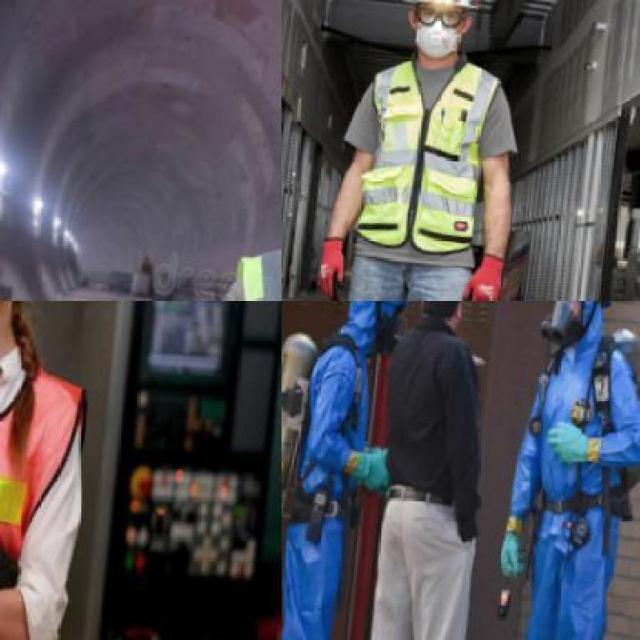Vest: (0, 312, 97, 638), (356, 45, 504, 252), (288, 306, 392, 539), (508, 338, 638, 524)
